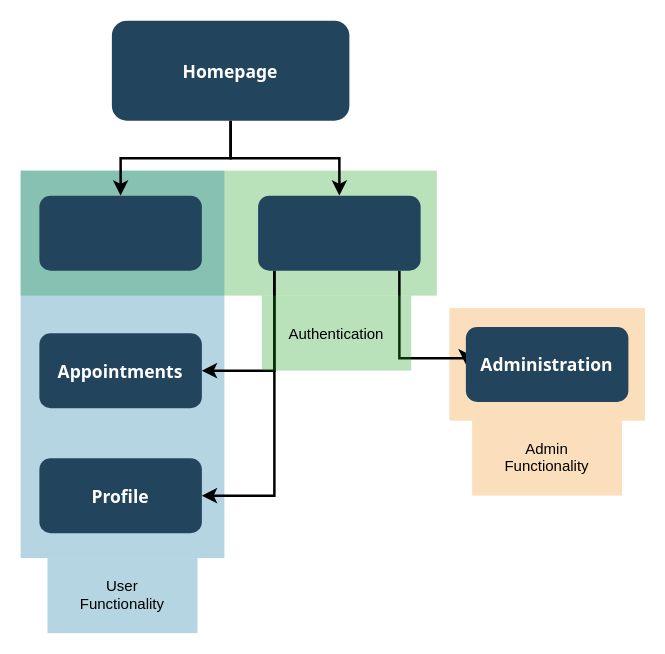
This 665x654 diagram has some shape labels left out. Each missing label, with the centre of its shape:
Login: (x=339, y=232)
Register: (x=120, y=232)
